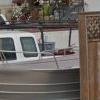Boat: (2, 26, 78, 97)
